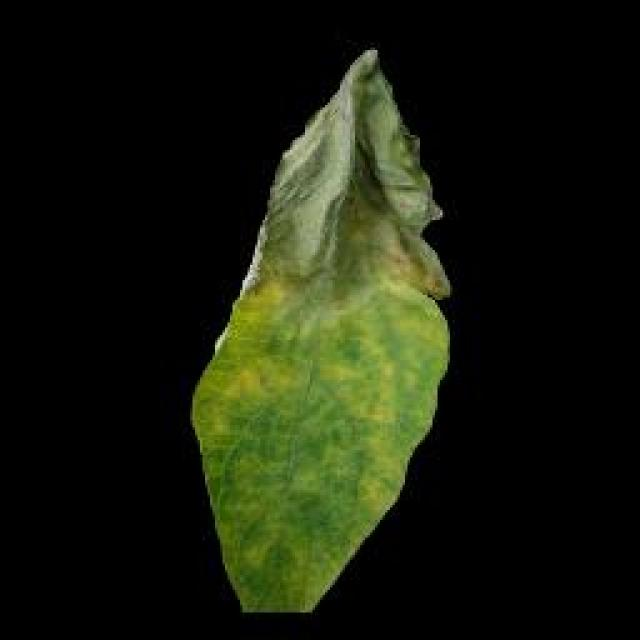Tomato Late Blight: (228, 78, 462, 350)
